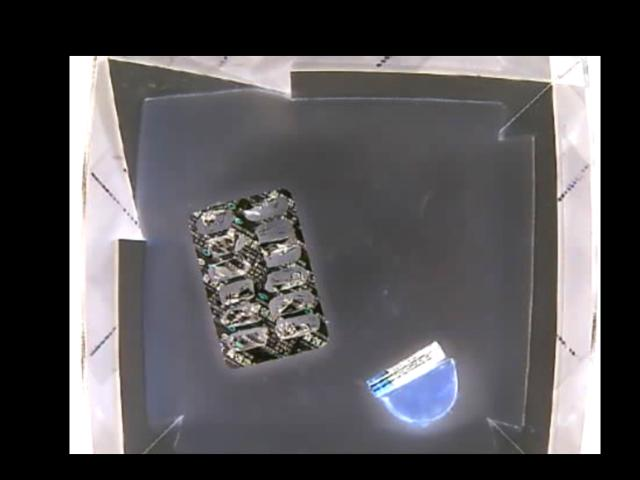Battery: (361, 343, 442, 396)
Medicine: (187, 189, 330, 369)
Potato: (383, 361, 456, 423)
